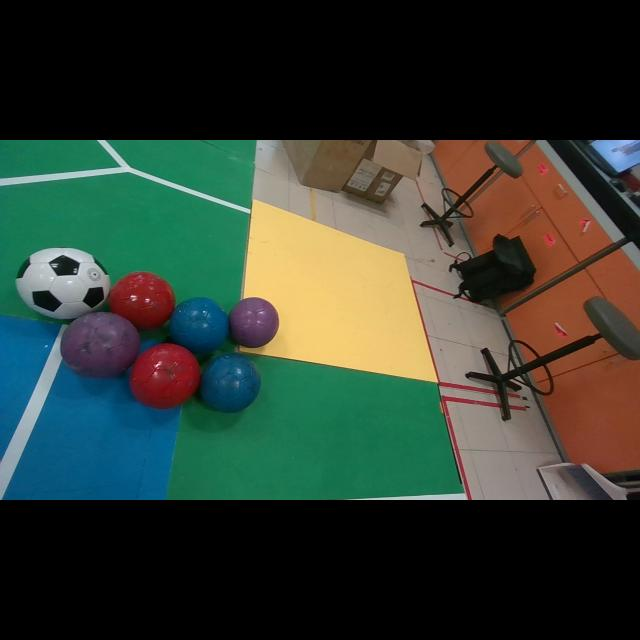B: (200, 354, 261, 412), (170, 298, 229, 354)
P: (60, 312, 140, 377), (229, 299, 279, 348)
R: (130, 344, 200, 409), (109, 271, 176, 330)
